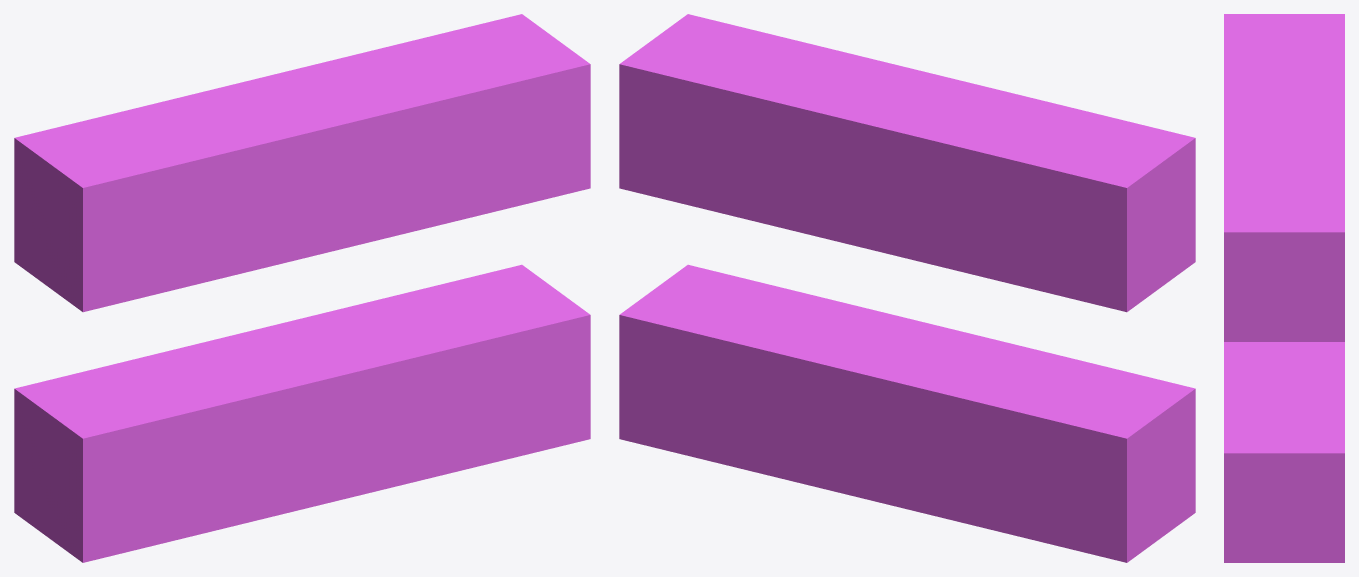
File: equal.glb
3 renders of one model, left to right at view 1: azimuth 30°, elevation 25°; view 2: azimuth 150°, elevation 25°; view 3: azimuth 270°, elevation 25°, orthographic. The views are drawn at different scales.
Visible parts, largest first — view 1: Cube; view 2: Cube; view 3: Cube.
Part boxes in pixels (<box>): Cube: <box>14,14,590,562</box>; Cube: <box>619,14,1195,562</box>; Cube: <box>1224,14,1344,562</box>.
Bounding box in the file's own units: 15.14 × 10.68 × 3.54.
